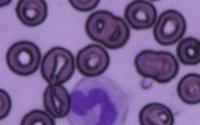N: (68, 74, 130, 125)
